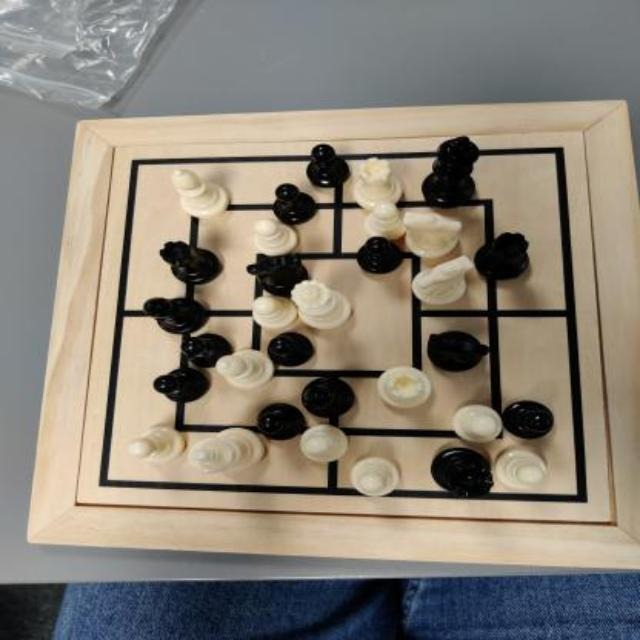black-bishop: (142, 296, 211, 334), (300, 374, 355, 418)
black-king: (422, 135, 482, 208)
black-knight: (427, 329, 491, 372), (248, 253, 308, 296)
black-pawn: (306, 143, 352, 186), (503, 400, 555, 438), (154, 368, 210, 402), (354, 236, 403, 274), (272, 183, 316, 225), (255, 403, 303, 441), (268, 330, 315, 368), (182, 332, 232, 366)
black-queen: (431, 446, 495, 498)
black-rook: (159, 239, 223, 285), (473, 231, 531, 281)
white-bishop: (171, 169, 232, 218), (216, 349, 274, 389)
white-king: (189, 427, 265, 473)
white-knight: (412, 255, 475, 307), (402, 210, 463, 260)
white-pawn: (125, 425, 188, 465), (348, 456, 401, 497), (495, 449, 547, 490), (298, 424, 350, 464), (453, 404, 503, 444), (253, 218, 299, 258), (250, 294, 299, 330), (365, 200, 409, 240)
white-queen: (289, 281, 352, 328)
white-rook: (353, 157, 403, 209), (377, 367, 433, 408)
